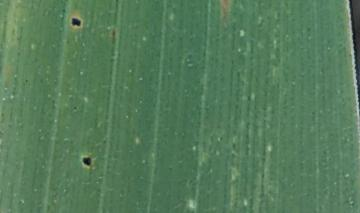tarspot: (69, 15, 83, 28), (81, 155, 92, 168), (71, 104, 78, 111), (23, 77, 30, 84)
